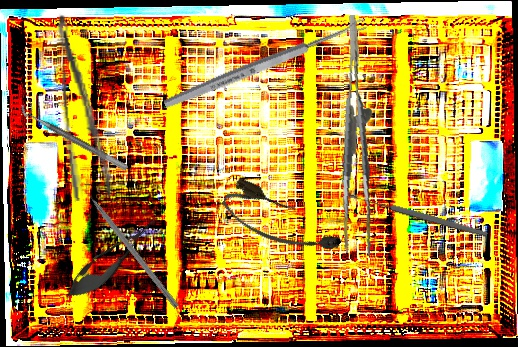Cannula: (217, 174, 346, 271)
Chopper: (78, 177, 186, 309)
Dressing Forceps: (54, 10, 113, 202)
Fixation Ring: (17, 97, 134, 172)
Micro Scissor: (57, 207, 167, 310)
Surgical Spoon: (162, 17, 368, 111), (348, 191, 489, 239)
Tissue Forceps: (320, 14, 399, 257)
